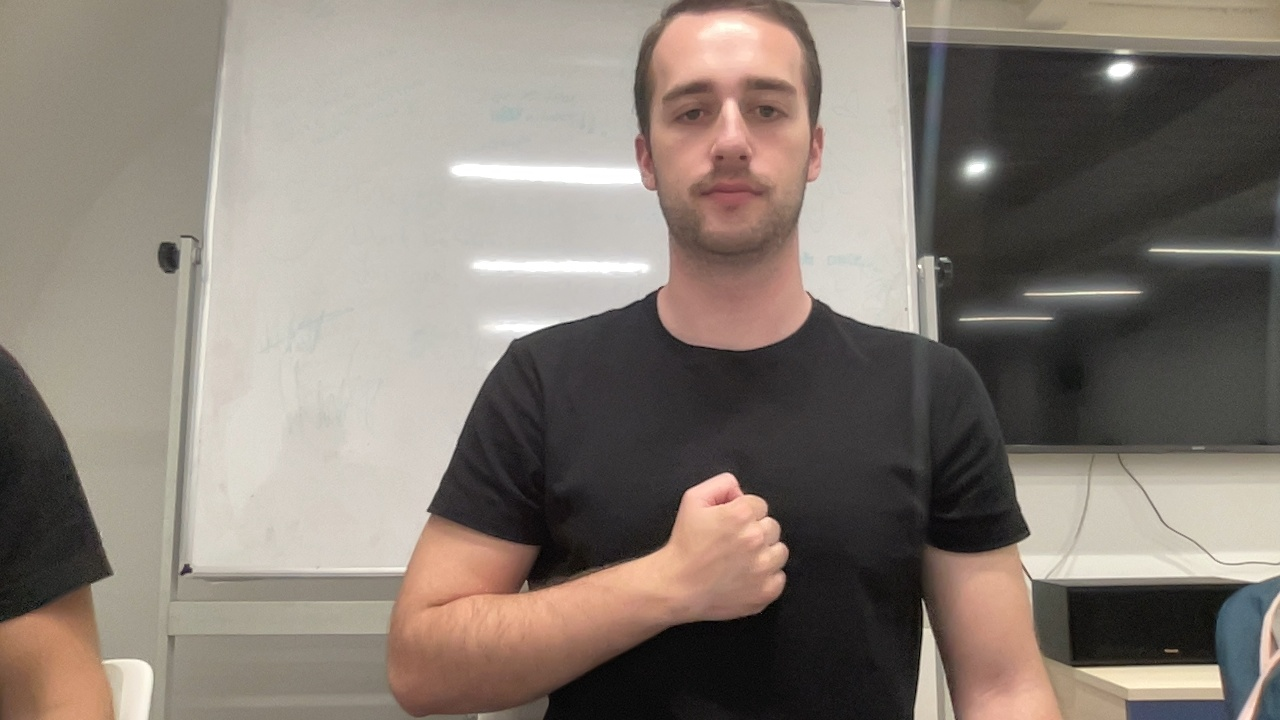Sorry: (380, 467, 795, 720)
